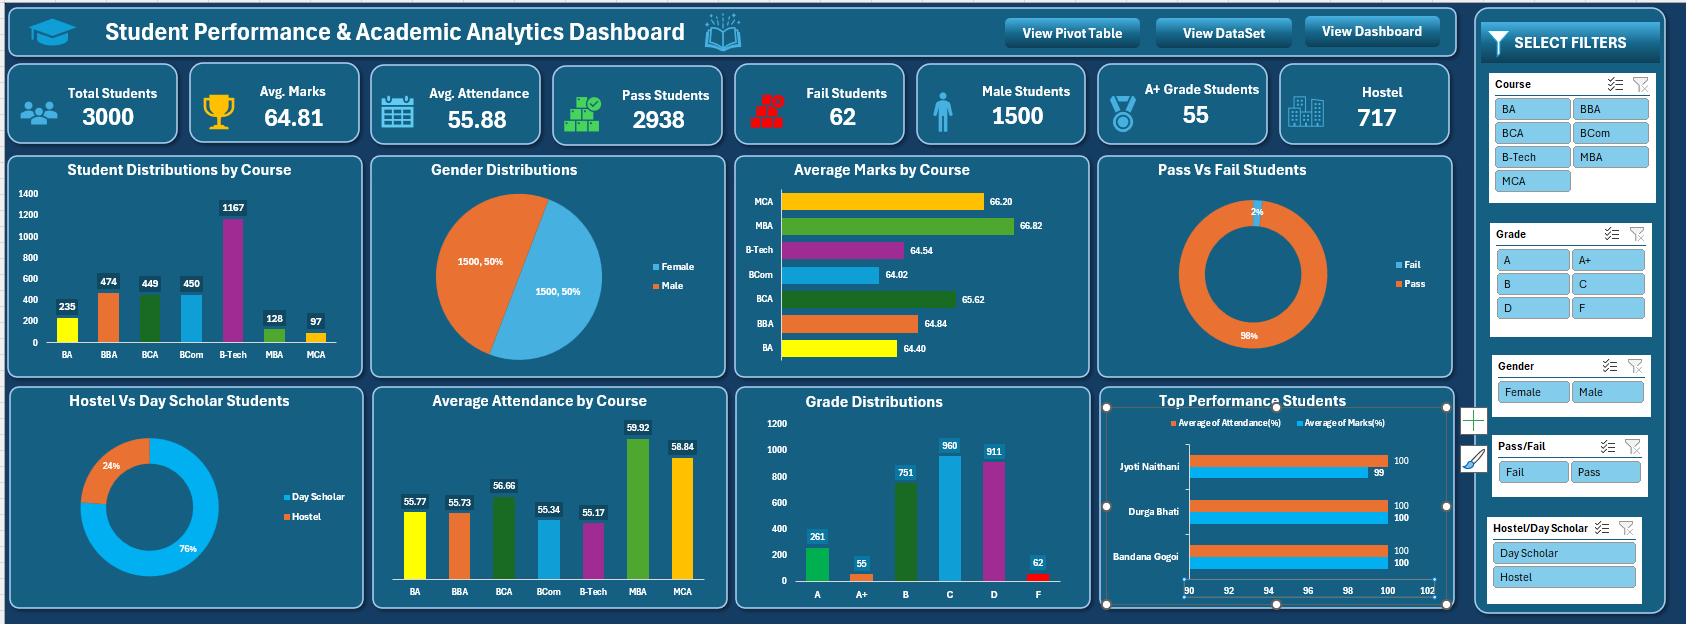

Layout of this report page (visuals, bound fields, positions):
{"tool":"powerbi","page":{"name":"Student_Performance_Dashboard","canvas":[1920,1080],"ordinal":0},"visuals":[{"type":"shape","box":[620,715,613.3,356.7],"z":0},{"type":"cardVisual","fields":{"Data":["Student_Analysis.Total_Student_Display"]},"box":[3.3,90,300,125],"z":1000},{"type":"shape","box":[0,5,1890,76.7],"z":2000},{"type":"textbox","box":[308.3,13.3,1153.3,61.7],"z":3000},{"type":"shape","box":[5,340,601.7,356.7],"z":4000},{"type":"cardVisual","fields":{"Data":["Avg(Student_Analysis.Marks(%))"]},"box":[320,90,300,125],"z":5000},{"type":"cardVisual","fields":{"Data":["Avg(Student_Analysis.Attendance(%))"]},"box":[633.3,90,300,125],"z":6000},{"type":"cardVisual","fields":{"Data":["Student_Analysis.Pass_Student_Display"]},"box":[945,90,300,125],"z":7000},{"type":"cardVisual","fields":{"Data":["Student_Analysis.Hostel Students"]},"box":[1578.3,90,300,125],"z":8000},{"type":"cardVisual","fields":{"Data":["Student_Analysis.Fail Students"]},"box":[1260,90,300,125],"z":9000},{"type":"slicer","fields":{"Values":["Student_Analysis.Course"]},"box":[78.3,225,305,101.7],"z":10000},{"type":"slicer","fields":{"Values":["Student_Analysis.Pass/Fail"]},"box":[426.7,225,305,101.7],"z":11000},{"type":"slicer","fields":{"Values":["Student_Analysis.Grade"]},"box":[780,225,305,101.7],"z":12000},{"type":"slicer","fields":{"Values":["Student_Analysis.Gender"]},"box":[1123.3,225,305,101.7],"z":13000},{"type":"slicer","fields":{"Values":["Student_Analysis.Hostel/Day Scholar"]},"box":[1465,225,305,101.7],"z":14000},{"type":"shape","box":[630,340,606.7,356.7],"z":15000},{"type":"shape","box":[1260,340,630,356.7],"z":16000},{"type":"clusteredColumnChart","title":"Course Distribution by Student","fields":{"Category":["Student_Analysis.Course"],"Y":["Student_Analysis.Total_Student"]},"box":[6.7,340,602,357],"z":17000},{"type":"donutChart","title":"Pass Vs Fail Student","fields":{"Category":["Student_Analysis.Pass/Fail"],"Y":["Student_Analysis.Total_Student"]},"box":[630,340,603.3,356.7],"z":18000},{"type":"clusteredColumnChart","title":"Average Marks by Courses","fields":{"Category":["Student_Analysis.Course"],"Y":["Avg(Student_Analysis.Marks(%))"]},"box":[1261.7,340,626.7,356.7],"z":19000},{"type":"shape","box":[5,716.7,595,351.7],"z":20000},{"type":"shape","box":[1260,718.3,628.3,355],"z":21000},{"type":"donutChart","title":"Hostel Vs Day Scholar","fields":{"Category":["Student_Analysis.Hostel/Day Scholar"],"Y":["Student_Analysis.Total_Student"]},"box":[6.7,716.7,593.3,351.7],"z":22000},{"type":"clusteredColumnChart","title":"Grade Distributions","fields":{"Category":["Student_Analysis.Grade"],"Y":["Avg(Student_Analysis.Marks(%))"]},"box":[620,716.7,613.3,356.7],"z":23000},{"type":"tableEx","title":"Top Performance ","fields":{"Values":["Student_Analysis.Name","Avg(Student_Analysis.Marks(%))","Avg(Student_Analysis.Attendance(%))","Student_Analysis.Grade"]},"box":[1261.7,718.3,628.3,355],"z":24500}]}

Visuals, with their boxes in screenshot pixels (x1, y1, x2, y2):
shape: BBox(362, 382, 724, 593)
cardVisual - Student_Analysis.Total_Student_Display: BBox(0, 14, 175, 87)
shape: BBox(0, 0, 1111, 9)
textbox: BBox(178, 0, 858, 5)
shape: BBox(0, 161, 354, 372)
cardVisual - Avg(Student_Analysis.Marks(%)): BBox(184, 14, 362, 87)
cardVisual - Avg(Student_Analysis.Attendance(%)): BBox(369, 14, 546, 87)
cardVisual - Student_Analysis.Pass_Student_Display: BBox(553, 14, 730, 87)
cardVisual - Student_Analysis.Hostel Students: BBox(927, 14, 1104, 87)
cardVisual - Student_Analysis.Fail Students: BBox(739, 14, 916, 87)
slicer - Student_Analysis.Course: BBox(42, 93, 222, 153)
slicer - Student_Analysis.Pass/Fail: BBox(247, 93, 427, 153)
slicer - Student_Analysis.Grade: BBox(456, 93, 636, 153)
slicer - Student_Analysis.Gender: BBox(659, 93, 839, 153)
slicer - Student_Analysis.Hostel/Day Scholar: BBox(860, 93, 1040, 153)
shape: BBox(367, 161, 726, 372)
shape: BBox(739, 161, 1111, 372)
"Course Distribution by Student" clusteredColumnChart: BBox(0, 161, 355, 372)
"Pass Vs Fail Student" donutChart: BBox(367, 161, 724, 372)
"Average Marks by Courses" clusteredColumnChart: BBox(740, 161, 1110, 372)
shape: BBox(0, 383, 350, 591)
shape: BBox(739, 384, 1110, 594)
"Hostel Vs Day Scholar" donutChart: BBox(0, 383, 350, 591)
"Grade Distributions" clusteredColumnChart: BBox(362, 383, 724, 594)
"Top Performance " tableEx: BBox(740, 384, 1111, 594)
